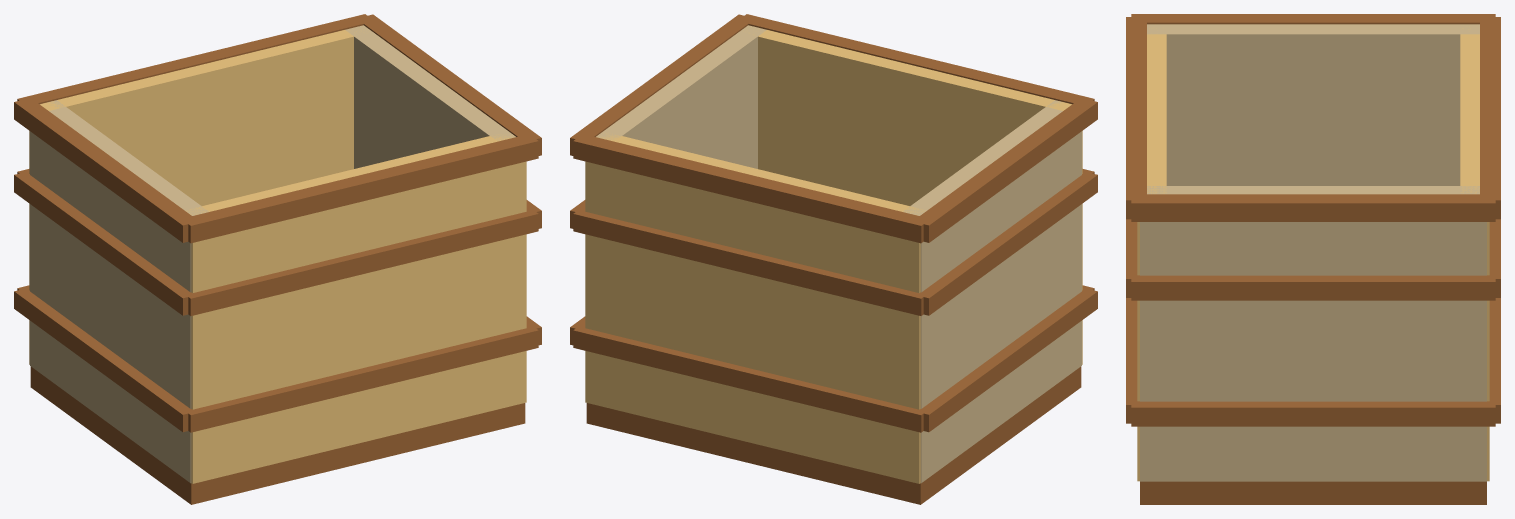
3 renders of one model, left to right at view 1: azimuth 30°, elevation 25°; view 2: azimuth 150°, elevation 25°; view 3: azimuth 270°, elevation 25°, orthographic. The views are drawn at different scales.
Parts seen in each view (by area): view 1: 空心折纸吊篮.001; view 2: 空心折纸吊篮.001; view 3: 空心折纸吊篮.001.
Part boxes in pixels (x1,y1,x2,y2): 空心折纸吊篮.001: (14,14,541,504); 空心折纸吊篮.001: (570,14,1097,504); 空心折纸吊篮.001: (1126,14,1500,504).
Size of the model in its own units: 0.258 by 0.196 by 0.216.
